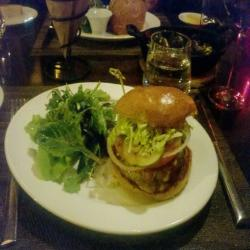burger: (100, 81, 197, 207)
salad: (34, 87, 116, 189)
